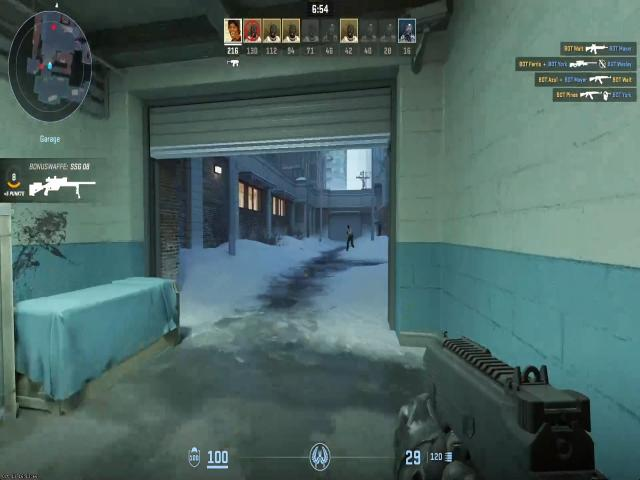T: (343, 222, 356, 248)
T-Head: (346, 224, 352, 231)
